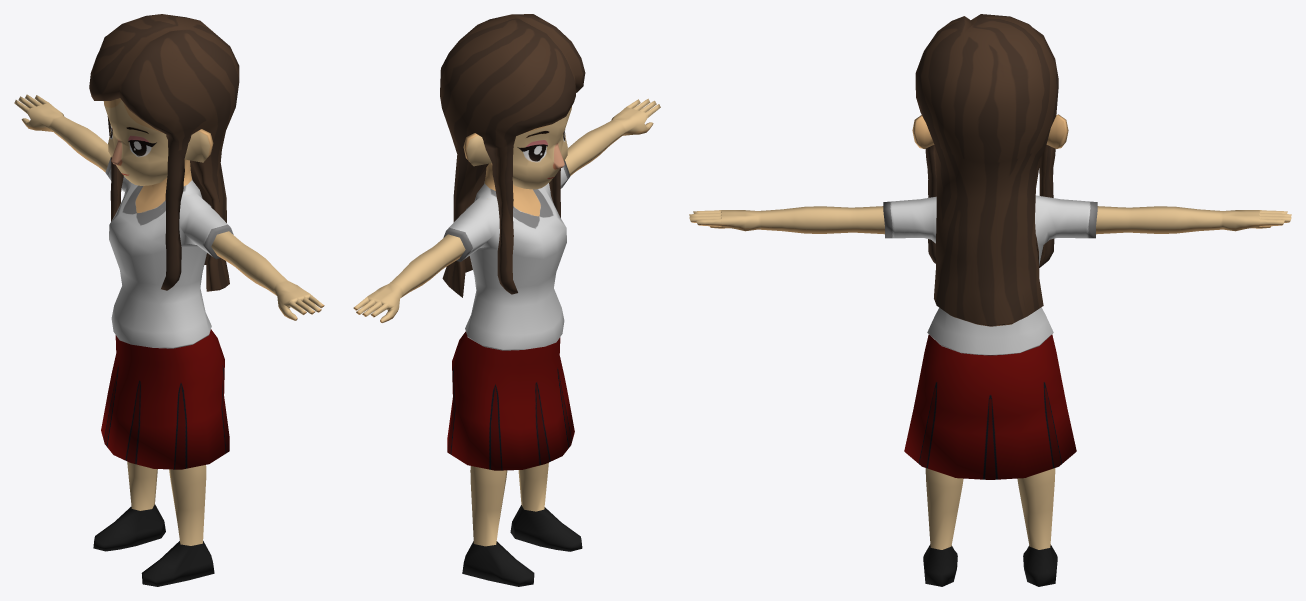
Rendered from girl_5.fbx.
3 views of the same model, side by side, from view 1: azimuth 30°, elevation 25°; view 2: azimuth 150°, elevation 25°; view 3: azimuth 270°, elevation 25° (orthographic). The views are drawn at different scales.
Visible parts, largest first — view 1: girl_5; view 2: girl_5; view 3: girl_5.
Boxes of the visible parts, x1,y1,x2,y2 form: girl_5: (14, 14, 324, 586); girl_5: (353, 14, 660, 586); girl_5: (689, 14, 1291, 586).
Bounding box in the file's own units: 34.45 × 137 × 136.
Materials: 1 (1 with a texture image).
